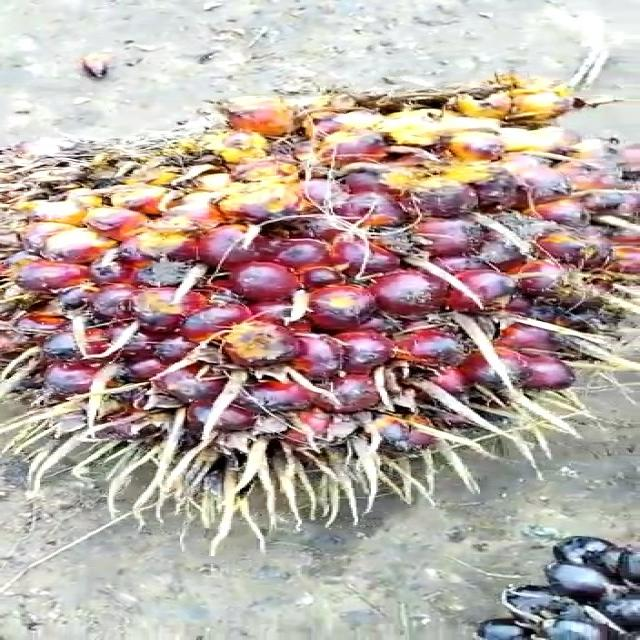palm oil: (0, 71, 640, 547)
